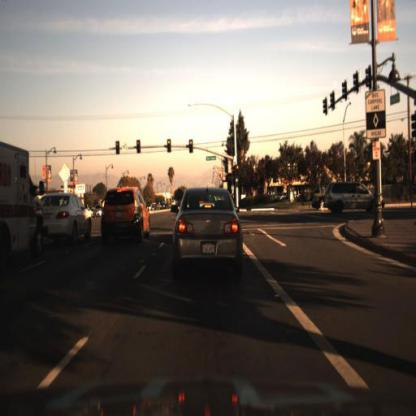car: (167, 177, 246, 285), (1, 140, 49, 273), (40, 188, 91, 254), (321, 174, 391, 222), (99, 184, 152, 246), (308, 187, 329, 213)
trafficLight-Red: (231, 159, 243, 175), (187, 134, 195, 149), (114, 139, 122, 152), (166, 135, 172, 148), (136, 138, 142, 150)
trafficLight-RedLeft: (135, 136, 143, 158), (115, 138, 122, 158)
